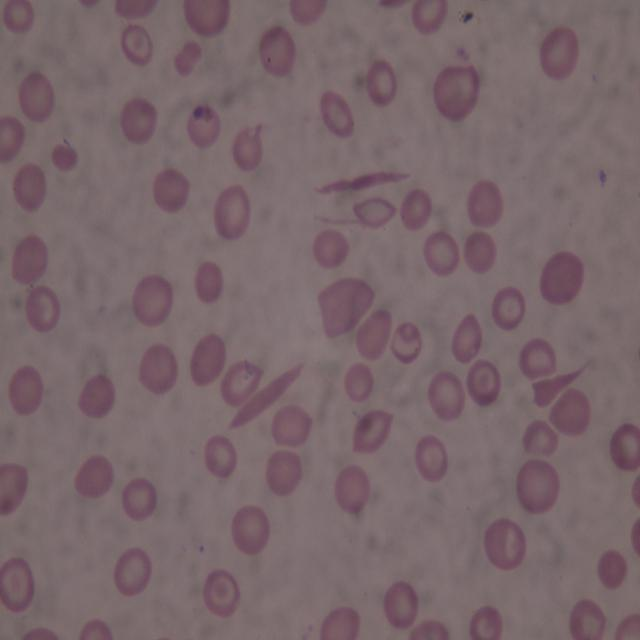Normal: (515, 457, 561, 514), (111, 546, 154, 597), (217, 187, 254, 239), (426, 373, 466, 420), (414, 434, 450, 484), (233, 505, 270, 552), (384, 580, 418, 630), (422, 232, 459, 277), (231, 124, 266, 171), (202, 434, 236, 479), (122, 478, 156, 522), (186, 105, 220, 148), (368, 59, 397, 108), (412, 3, 449, 38), (4, 0, 35, 34)
Others: (316, 276, 378, 338), (430, 66, 480, 125), (539, 251, 584, 307), (353, 309, 396, 361), (258, 24, 299, 78), (134, 272, 174, 327), (486, 520, 527, 570), (539, 30, 578, 81), (75, 374, 117, 421), (551, 388, 592, 436), (140, 344, 178, 395), (220, 362, 263, 407), (350, 408, 391, 455), (1, 554, 32, 616), (21, 284, 60, 333), (7, 365, 45, 415), (188, 333, 224, 385), (266, 448, 303, 498), (150, 167, 189, 214), (184, 0, 232, 38), (13, 232, 48, 284), (74, 454, 115, 498), (2, 458, 31, 517), (469, 178, 505, 225), (517, 339, 558, 379), (272, 407, 314, 446), (20, 73, 54, 121), (321, 92, 356, 138), (312, 226, 350, 268), (335, 467, 368, 515), (570, 596, 606, 640), (389, 319, 422, 366), (610, 421, 640, 472), (353, 196, 400, 228), (522, 418, 560, 457), (452, 314, 482, 363), (399, 188, 430, 235), (319, 605, 360, 640), (122, 98, 156, 140), (14, 162, 45, 208), (596, 547, 629, 589), (463, 232, 497, 272), (492, 288, 526, 328), (193, 260, 221, 305), (344, 364, 376, 402), (2, 113, 25, 165), (286, 1, 330, 28), (471, 608, 502, 640), (173, 41, 201, 76), (111, 0, 158, 20), (409, 618, 452, 638), (76, 620, 116, 638), (19, 624, 62, 640), (53, 144, 80, 169), (616, 613, 640, 637), (628, 515, 640, 559)
Sickle: (226, 360, 308, 430), (311, 166, 413, 199), (532, 358, 595, 409)
Target: (201, 569, 240, 617), (464, 360, 502, 404), (121, 23, 153, 65)
